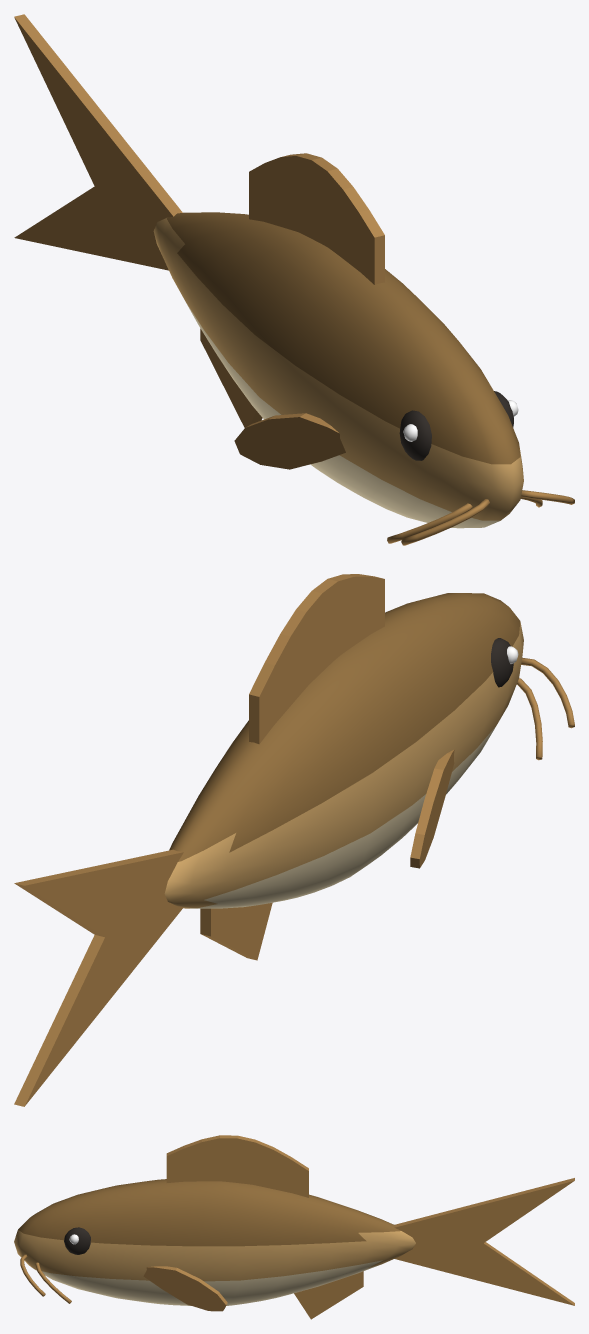
The model's file is fish-carp.glb.
3 views of the same model, one above another, from view 1: azimuth 30°, elevation 25°; view 2: azimuth 150°, elevation 25°; view 3: azimuth 270°, elevation 25° (orthographic). The views are drawn at different scales.
Parts seen in each view (by area): view 1: fish; view 2: fish; view 3: fish.
Boxes of the visible parts, x1,y1,x2,y2 form: fish: (14, 14, 574, 545); fish: (14, 574, 574, 1106); fish: (14, 1135, 574, 1319).
Bounding box in the file's own units: 0.1059 × 0.1749 × 0.49.
